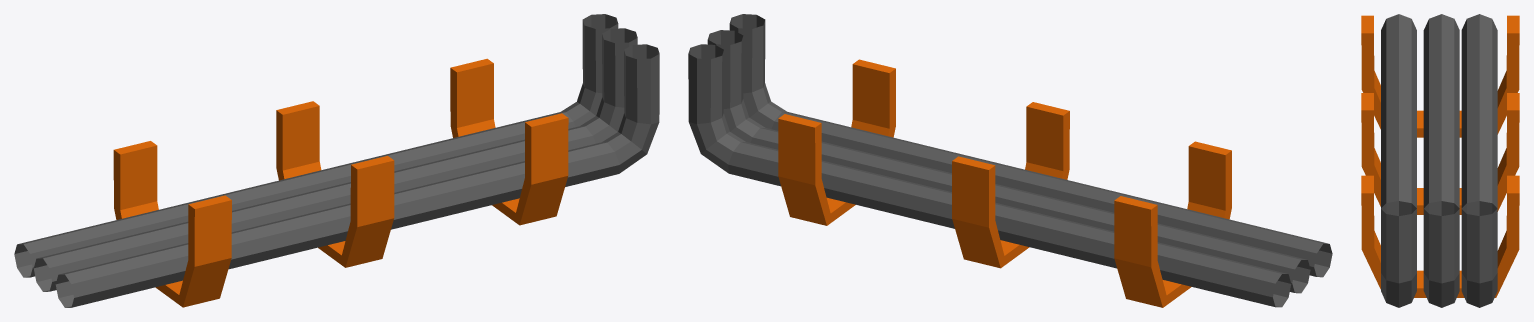
The model's file is Pipe 1.fbx.
The picture shows the model from 3 angles, left to right: view 1: azimuth 30°, elevation 25°; view 2: azimuth 150°, elevation 25°; view 3: azimuth 270°, elevation 25°; orthographic projection. The views are drawn at different scales.
Parts seen in each view (by area): view 1: Cube.081; view 2: Cube.081; view 3: Cube.081.
Boxes of the visible parts, bbox=[...] form: Cube.081: bbox=[14, 14, 659, 307]; Cube.081: bbox=[688, 14, 1332, 307]; Cube.081: bbox=[1361, 14, 1519, 307].
Bounding box in the file's own units: 1.06 × 0.2334 × 0.2509.
